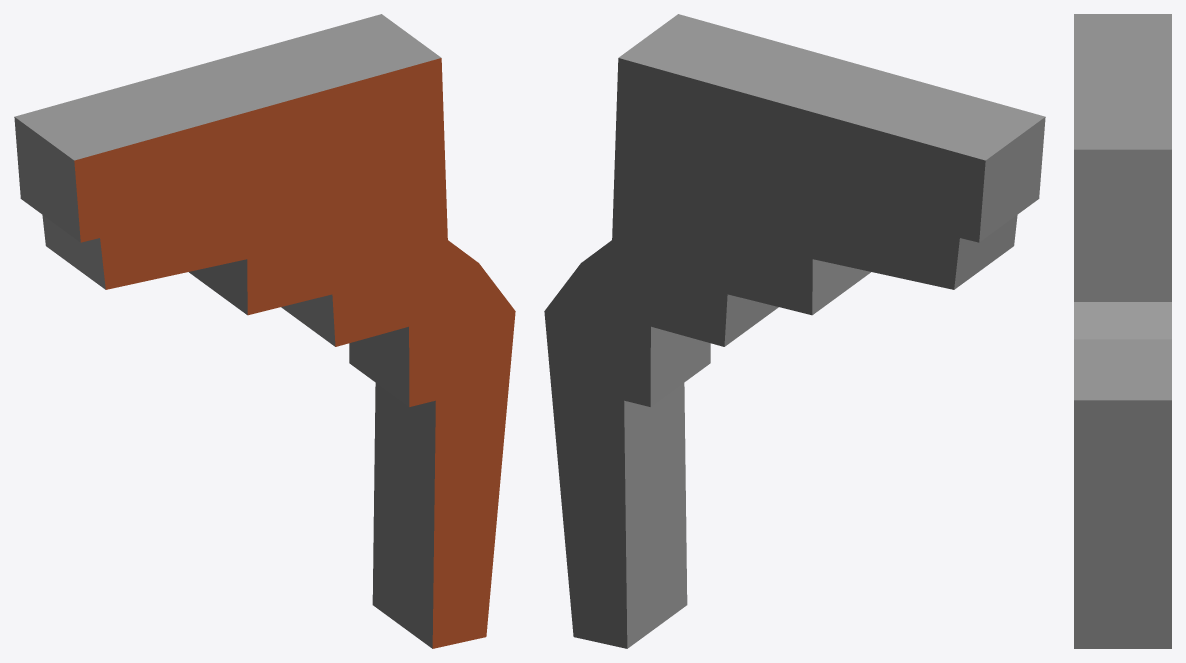
File: construction_1047_assumed_A_Casa_h6m.obj
3 renders of one model, left to right at view 1: azimuth 30°, elevation 25°; view 2: azimuth 150°, elevation 25°; view 3: azimuth 270°, elevation 25°, orthographic. The views are drawn at different scales.
Visible parts, largest first — view 1: construction_1047_assumed_A_Casa; view 2: construction_1047_assumed_A_Casa; view 3: construction_1047_assumed_A_Casa.
Boxes of the visible parts, <box> form: construction_1047_assumed_A_Casa: <box>14,14,515,648</box>; construction_1047_assumed_A_Casa: <box>544,14,1045,648</box>; construction_1047_assumed_A_Casa: <box>1074,14,1171,648</box>.
Bounding box in the file's own units: 25.5 × 32.58 × 6.
